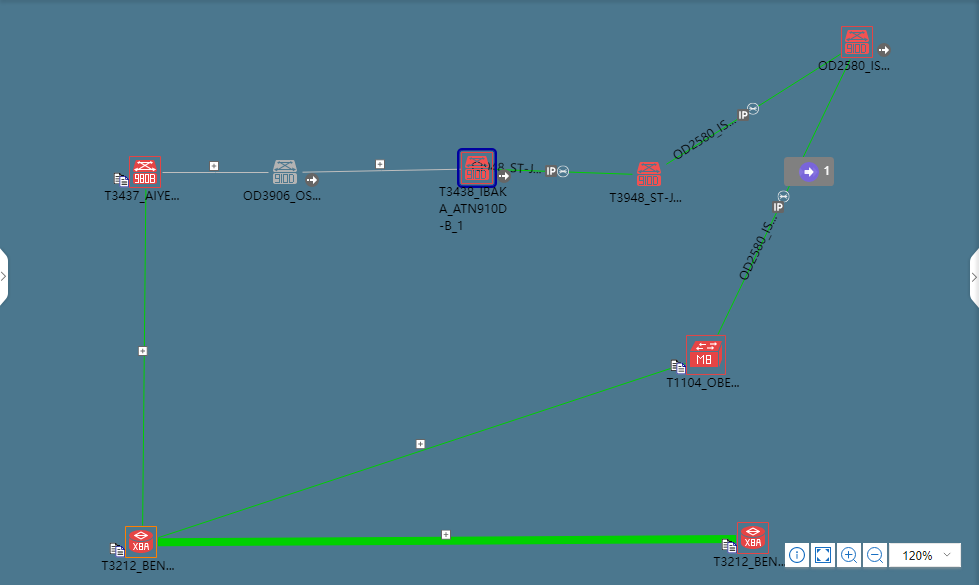ATN_Gray: (272, 161, 301, 184)
ATN_Red: (132, 161, 161, 190), (841, 26, 869, 55), (462, 155, 490, 184), (639, 161, 662, 190)
Link_Green: (162, 363, 675, 539), (664, 51, 840, 166), (713, 185, 789, 337), (162, 534, 734, 548), (138, 185, 154, 539), (798, 63, 851, 159)
Router_Red: (737, 522, 772, 557), (688, 338, 724, 372), (125, 528, 161, 556)
Switch_Red: (688, 338, 724, 372)
